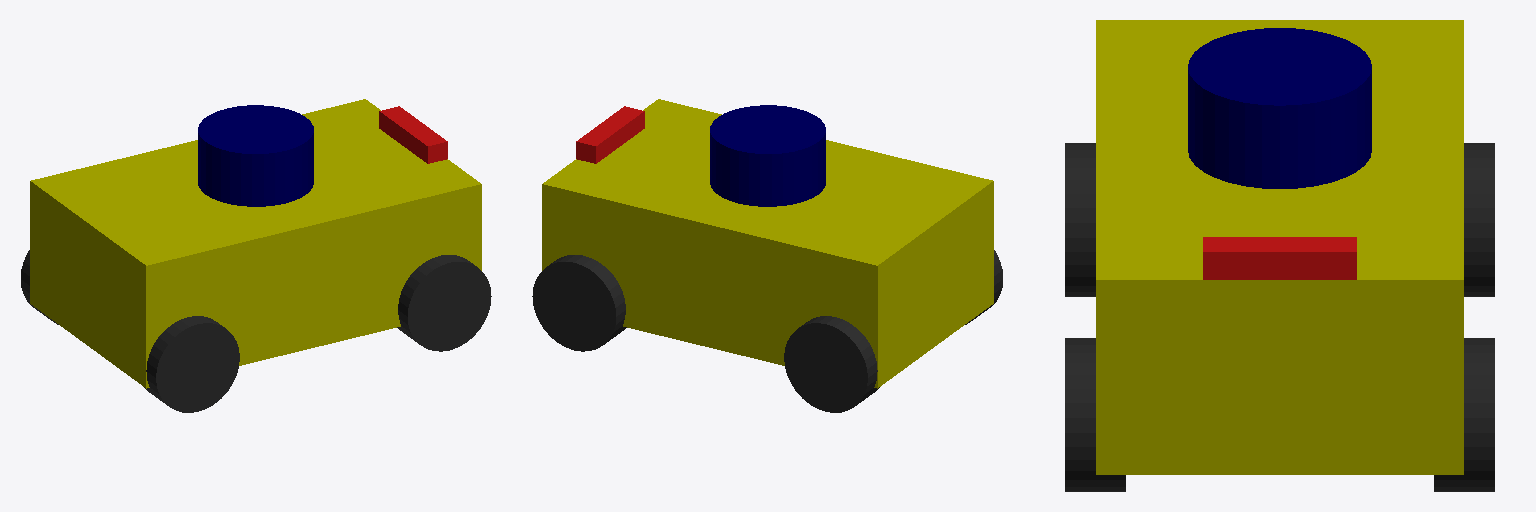
The robot description file, URDF, robot "car":
<?xml version="1.0" ?>
<!-- =================================================================================== -->
<!-- |    This document was autogenerated by xacro from [local-path]/source/ROS2_WS/4.ws02_tools/install/cpp06_urdf/share/cpp06_urdf/urdf/xacro/car.urdf.xacro | -->
<!-- |    EDITING THIS FILE BY HAND IS NOT RECOMMENDED                                 | -->
<!-- =================================================================================== -->
<robot name="car">
  <!-- 定义颜色 -->
  <material name="yellow">
    <color rgba="0.7 0.7 0 0.8"/>
  </material>
  <material name="red">
    <color rgba="0.8 0.1 0.1 0.8"/>
  </material>
  <material name="gray">
    <color rgba="0.2 0.2 0.2 0.95"/>
  </material>
  <!-- 定义 base_footprint -->
  <link name="base_footprint">
    <visual>
      <geometry>
        <sphere radius="0.001"/>
      </geometry>
    </visual>
  </link>
  <!-- 定义 base_link -->
  <link name="base_link">
    <visual>
      <!-- 形状 -->
      <geometry>
        <box size="0.2 0.12 0.07"/>
      </geometry>
      <origin rpy="0 0 0" xyz="0 0 0"/>
      <material name="yellow"/>
    </visual>
  </link>
  <joint name="baselink2basefootprint" type="fixed">
    <parent link="base_footprint"/>
    <child link="base_link"/>
    <origin xyz="0.0 0.0 0.05"/>
  </joint>
  <link name="left_front_wheel">
    <visual>
      <geometry>
        <cylinder length="0.02" radius="0.025"/>
      </geometry>
      <origin rpy="1.5708 0 0" xyz="0 0 0"/>
      <material name="gray"/>
    </visual>
  </link>
  <joint name="left_front2baselink" type="continuous">
    <parent link="base_link"/>
    <child link="left_front_wheel"/>
    <origin rpy="0 0 0" xyz="0.07500000000000001 0.06 -0.025"/>
    <axis xyz="0 1 0"/>
  </joint>
  <link name="left_back_wheel">
    <visual>
      <geometry>
        <cylinder length="0.02" radius="0.025"/>
      </geometry>
      <origin rpy="1.5708 0 0" xyz="0 0 0"/>
      <material name="gray"/>
    </visual>
  </link>
  <joint name="left_back2baselink" type="continuous">
    <parent link="base_link"/>
    <child link="left_back_wheel"/>
    <origin rpy="0 0 0" xyz="-0.07500000000000001 0.06 -0.025"/>
    <axis xyz="0 1 0"/>
  </joint>
  <link name="right_front_wheel">
    <visual>
      <geometry>
        <cylinder length="0.02" radius="0.025"/>
      </geometry>
      <origin rpy="1.5708 0 0" xyz="0 0 0"/>
      <material name="gray"/>
    </visual>
  </link>
  <joint name="right_front2baselink" type="continuous">
    <parent link="base_link"/>
    <child link="right_front_wheel"/>
    <origin rpy="0 0 0" xyz="0.07500000000000001 -0.06 -0.025"/>
    <axis xyz="0 1 0"/>
  </joint>
  <link name="right_back_wheel">
    <visual>
      <geometry>
        <cylinder length="0.02" radius="0.025"/>
      </geometry>
      <origin rpy="1.5708 0 0" xyz="0 0 0"/>
      <material name="gray"/>
    </visual>
  </link>
  <joint name="right_back2baselink" type="continuous">
    <parent link="base_link"/>
    <child link="right_back_wheel"/>
    <origin rpy="0 0 0" xyz="-0.07500000000000001 -0.06 -0.025"/>
    <axis xyz="0 1 0"/>
  </joint>
  <!-- 摄像头安装的z坐标:底盘高度 / 2 + 摄像头高度 / 2  -->
  <!-- 摄像头关节以及link -->
  <link name="camera">
    <visual>
      <geometry>
        <box size="0.012 0.05 0.01"/>
      </geometry>
      <origin rpy="0.0 0.0 0.0" xyz="0.0 0.0 0.0"/>
      <material name="red"/>
    </visual>
  </link>
  <joint name="camera2baselink" type="fixed">
    <parent link="base_link"/>
    <child link="camera"/>
    <origin xyz="0.094 0.0 0.04"/>
  </joint>
  <material name="blue">
    <color rgba="0.0 0.0 0.4 0.95"/>
  </material>
  <!-- 雷达安装的z坐标:车体高度 / 2 + 雷达高度 / 2  -->
  <!-- 雷达关节以及link -->
  <link name="laser">
    <visual>
      <geometry>
        <cylinder length="0.03" radius="0.03"/>
      </geometry>
      <origin rpy="0.0 0.0 0.0" xyz="0.0 0.0 0.0"/>
      <material name="blue"/>
    </visual>
  </link>
  <joint name="laser2baselink" type="fixed">
    <parent link="base_link"/>
    <child link="laser"/>
    <origin xyz="0.0 0.0 0.05"/>
  </joint>
</robot>

--- Facts derived from the render (not from the file) ---
Views: 3 orthographic renders of the robot side by side, from view 1: azimuth 30°, elevation 25°; view 2: azimuth 150°, elevation 25°; view 3: azimuth 270°, elevation 25°.
Model car with 8 links and 7 joints (4 continuous, 3 fixed), rooted at base_footprint, posed every joint at zero.
Links seen in each view (by area): view 1: base_link, laser, right_back_wheel, right_front_wheel, camera; view 2: base_link, laser, left_back_wheel, left_front_wheel, camera; view 3: base_link, laser, camera, left_front_wheel, right_front_wheel, left_back_wheel, right_back_wheel.
Link boxes in pixels (bbox=[...]): base_link: bbox=[30, 99, 481, 388]; laser: bbox=[198, 105, 313, 206]; right_back_wheel: bbox=[144, 316, 239, 412]; right_front_wheel: bbox=[397, 255, 491, 351]; camera: bbox=[379, 106, 447, 163]; base_link: bbox=[542, 99, 993, 388]; laser: bbox=[710, 105, 825, 206]; left_back_wheel: bbox=[784, 316, 879, 412]; left_front_wheel: bbox=[532, 255, 626, 351]; camera: bbox=[576, 106, 644, 163]; base_link: bbox=[1096, 20, 1463, 474]; laser: bbox=[1188, 28, 1371, 188]; camera: bbox=[1203, 237, 1356, 279]; left_front_wheel: bbox=[1434, 338, 1494, 491]; right_front_wheel: bbox=[1065, 338, 1125, 491]; left_back_wheel: bbox=[1464, 143, 1494, 296]; right_back_wheel: bbox=[1065, 143, 1095, 296].
Bounding box of the posed robot: 0.2 × 0.14 × 0.116 m (x, y, z).
Geometry: primitives only (box / cylinder / sphere), no mesh files.
